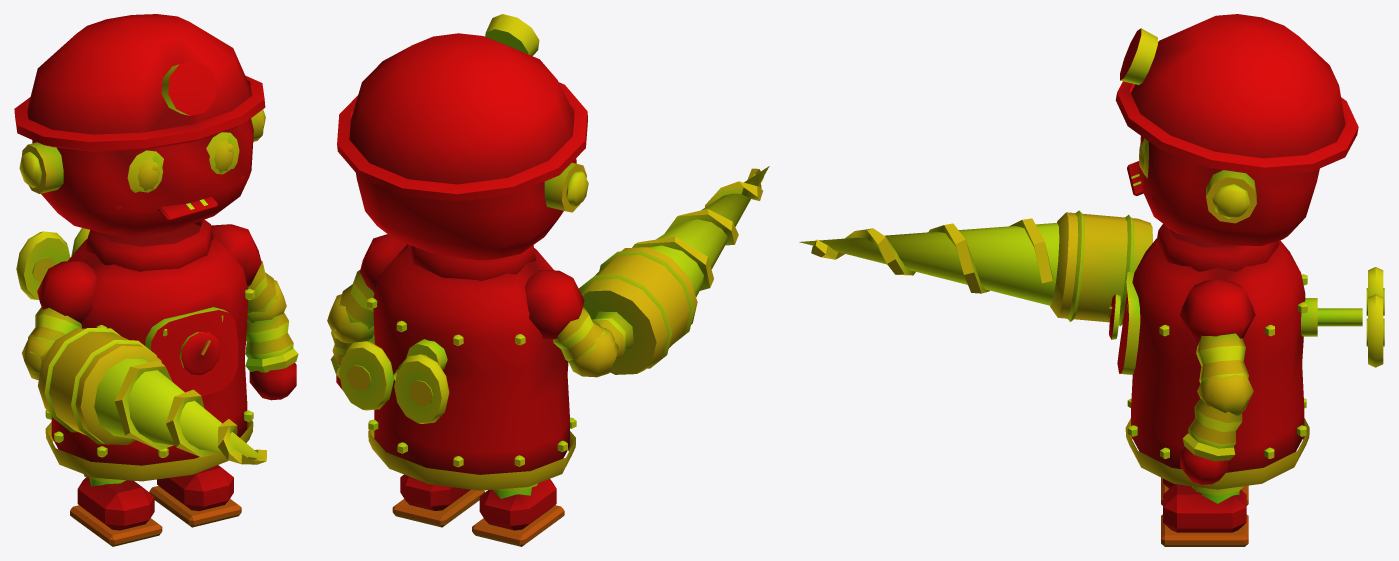
Rendered from RobotDriller.glb.
The picture shows the model from 3 angles, left to right: view 1: azimuth 30°, elevation 25°; view 2: azimuth 150°, elevation 25°; view 3: azimuth 270°, elevation 25°; orthographic projection.
Visible parts, largest first — view 1: RobotDriller; view 2: RobotDriller; view 3: RobotDriller.
Part boxes in pixels (left/top/right/bottom): RobotDriller: left=14, top=14, right=298, bottom=546; RobotDriller: left=327, top=14, right=769, bottom=546; RobotDriller: left=799, top=14, right=1384, bottom=546.
Size of the model in its own units: 0.5329 by 0.8338 by 0.9096.
